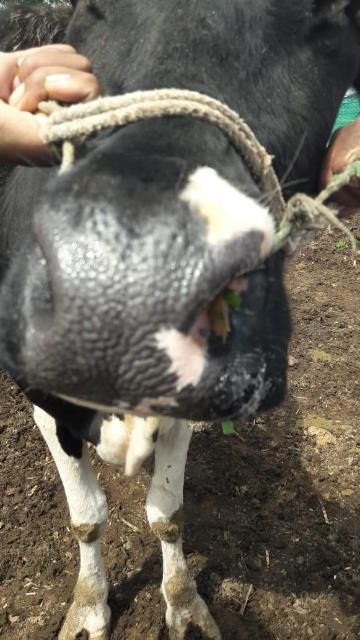Muzzle: (44, 217, 198, 387)
